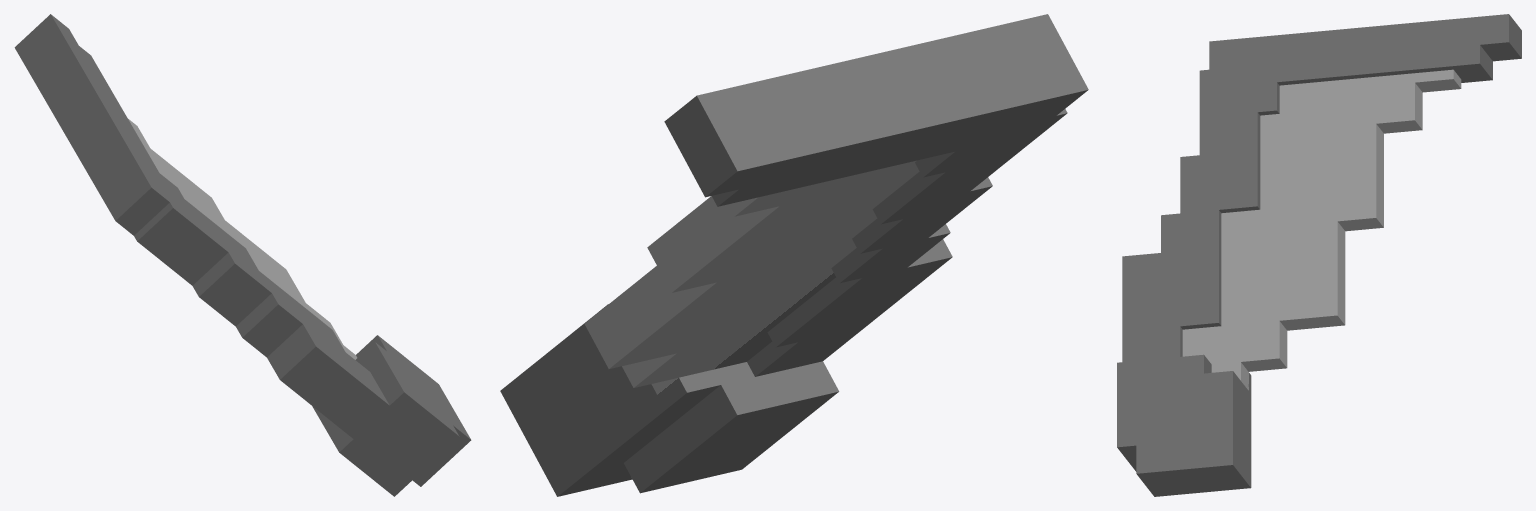
File: left-wing.obj
3 views of the same model, side by side, from view 1: azimuth 30°, elevation 25°; view 2: azimuth 150°, elevation 25°; view 3: azimuth 270°, elevation 25° (orthographic). The views are drawn at different scales.
Parts seen in each view (by area): view 1: Model; view 2: Model; view 3: Model.
Boxes of the visible parts, bbox=[...] form: Model: bbox=[14, 14, 471, 496]; Model: bbox=[500, 14, 1088, 496]; Model: bbox=[1117, 14, 1521, 496].
Size of the model in its own units: 37.86 by 42.9 by 40.45.
Materials: 1 (1 with a texture image).
